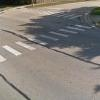Crosswalk: (3, 24, 87, 56)
